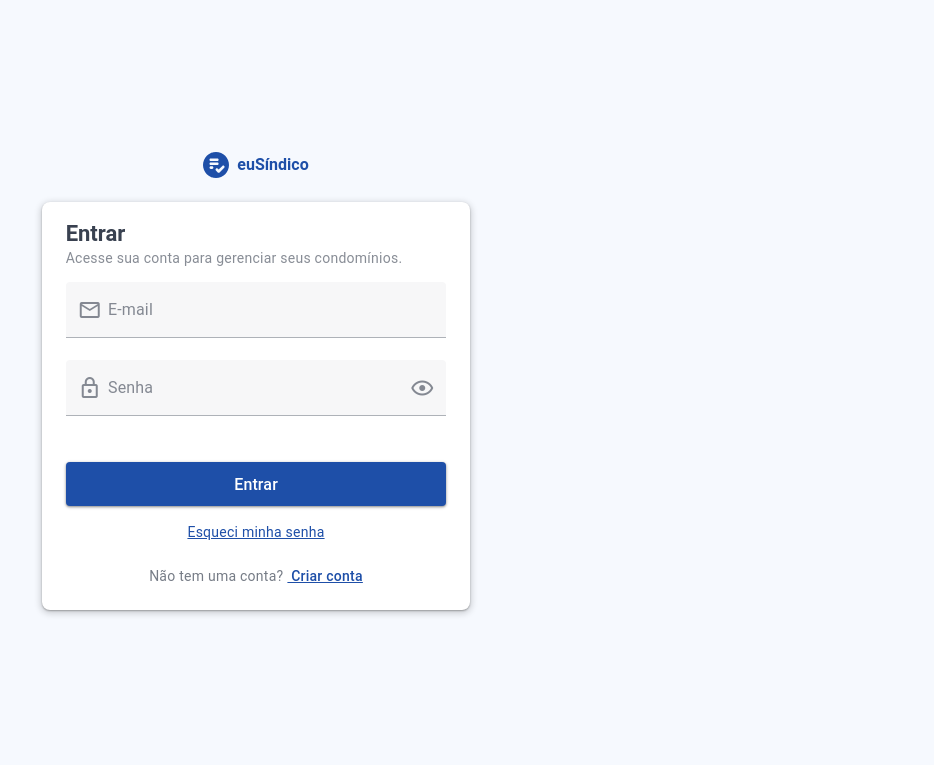
Scenario: Compromissos (RF12-RF17, RF34) › mantém o item na lista e avisa quando concluir falha
The image size is (934, 765).
Type "sindico@exemplo.com" into the element with test id "email".
click(257, 321); type("sindico@exemplo.com")  # box [66,282,447,360]
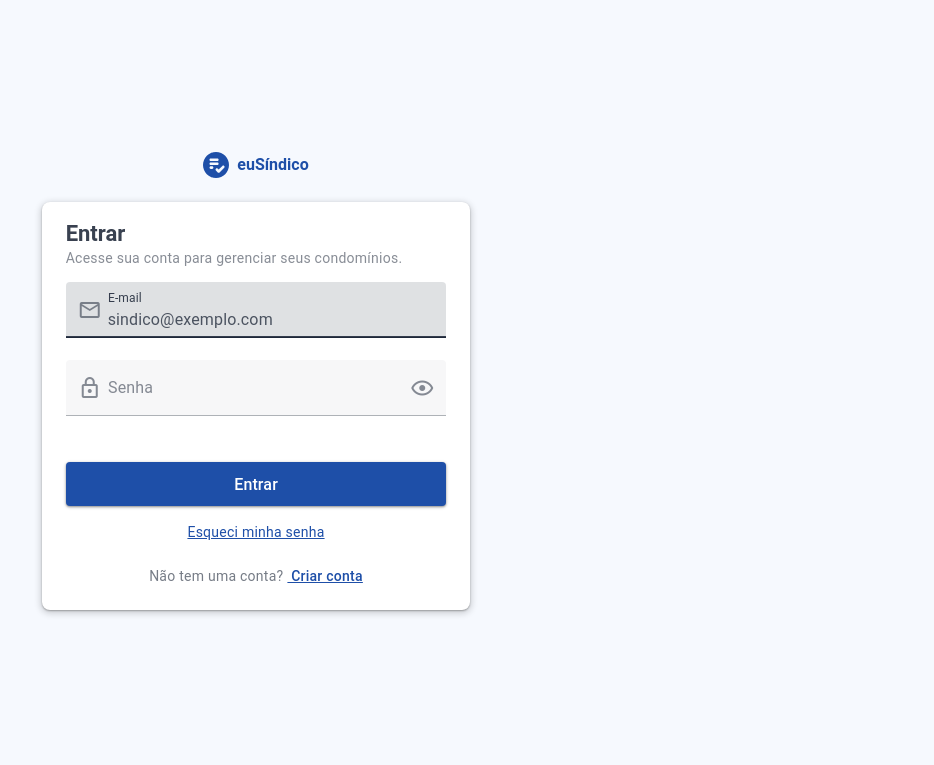
Type "SenhaForte1!" into the element with test id "senha".
click(257, 399); type("SenhaForte1!")  # box [66,360,447,438]
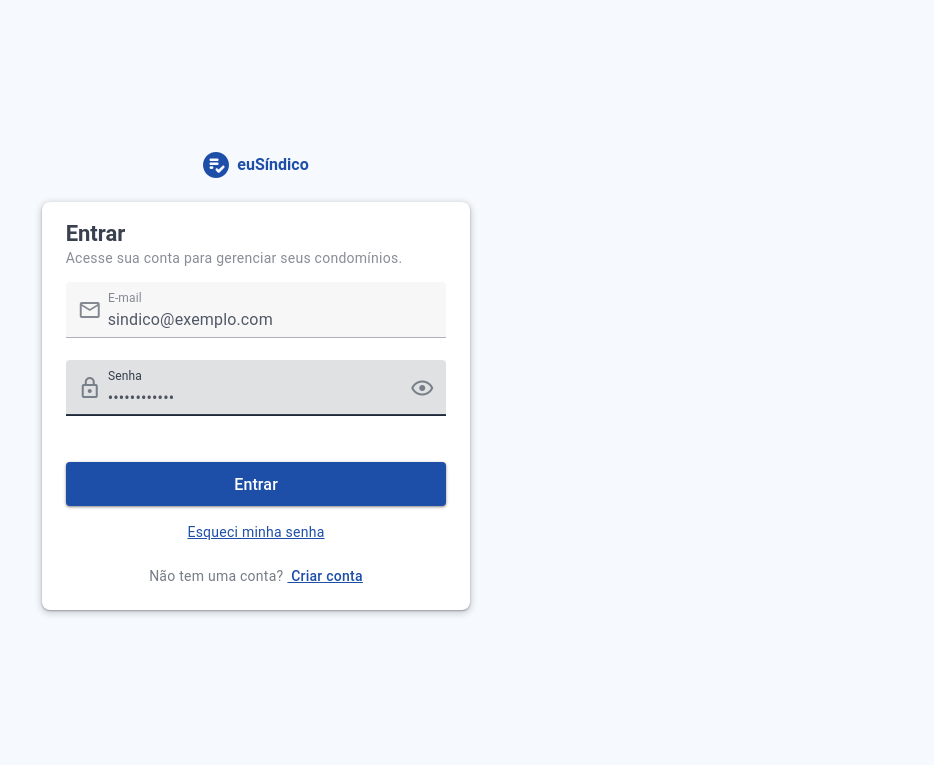
Click the button with test id "btn-entrar".
click(257, 484)  # box [66,462,447,506]
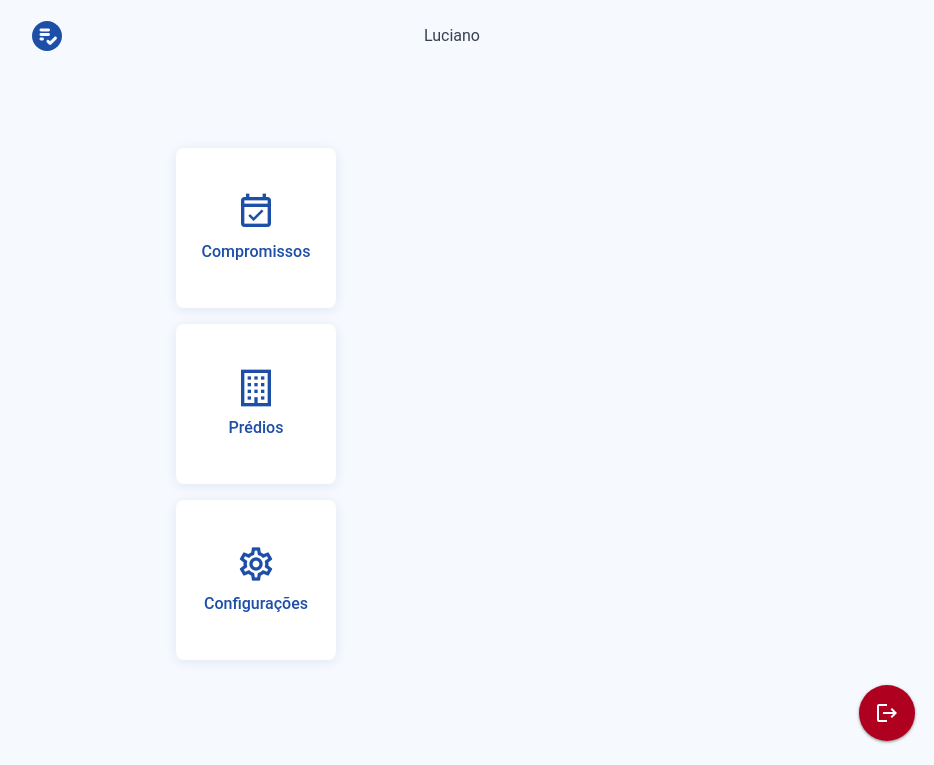
Click the link with test id "card-compromissos".
click(256, 228)  # box [176,148,336,308]
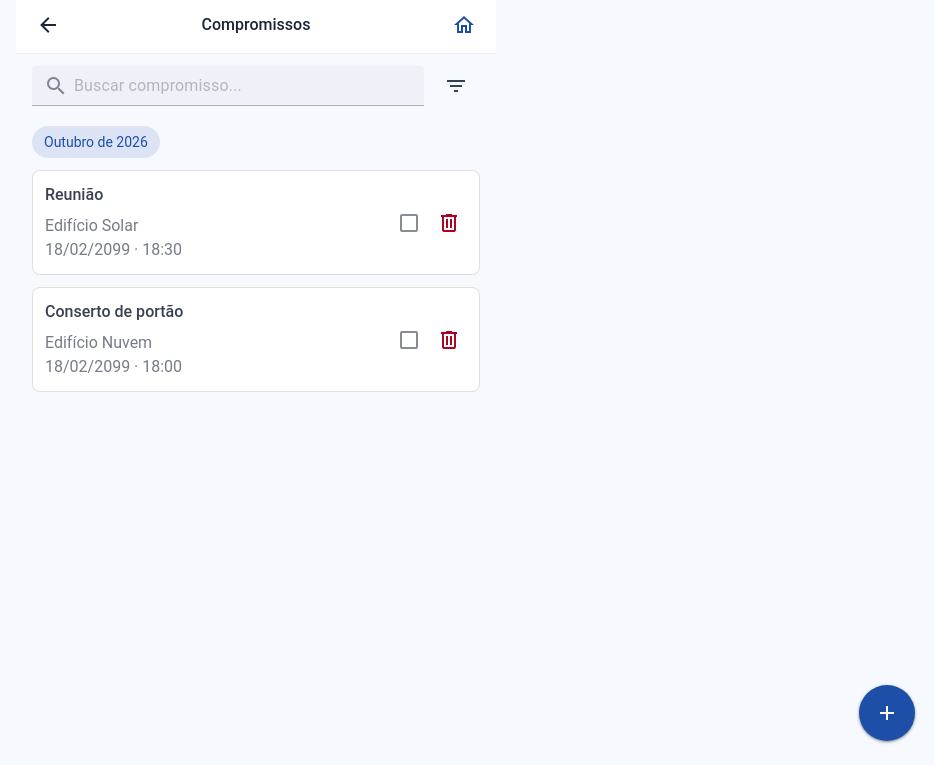
Click the checkbox named "Marcar como concluído".
click(413, 226)  # box [395,208,431,244]
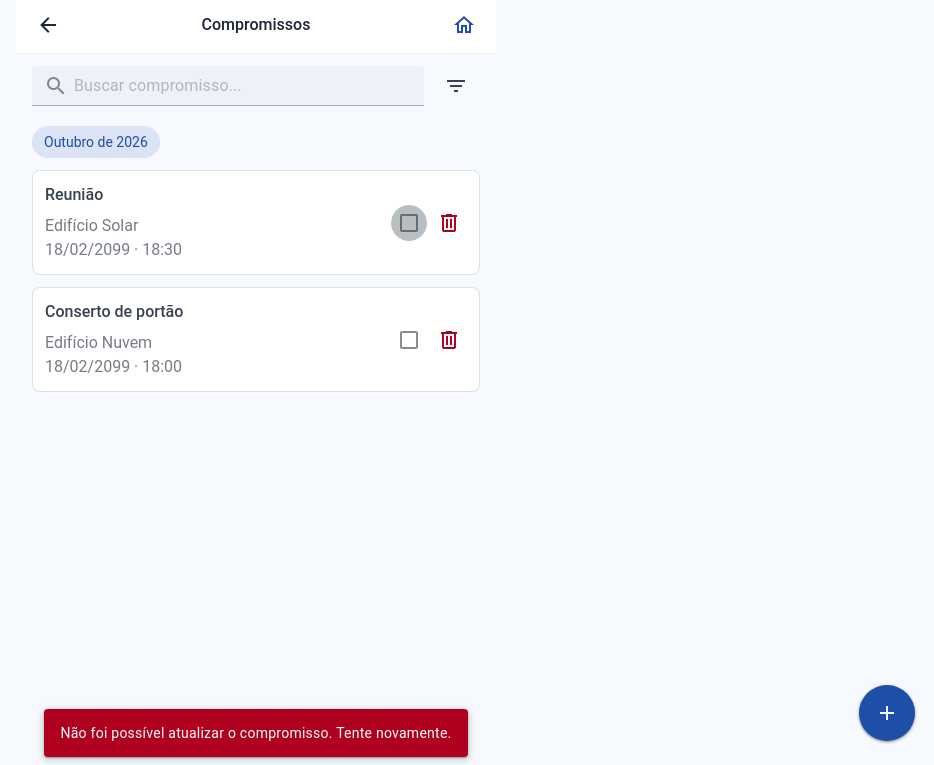
Now the element with test id "compromisso-item-11" is shown, box [32,170,480,275]
Now the message with test id "snackbar" shows "Não foi possível atualizar o compromisso", box [60,725,451,741]
